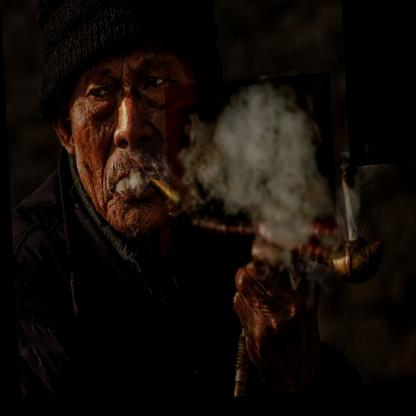smoke: (163, 78, 336, 277), (340, 0, 416, 173)
